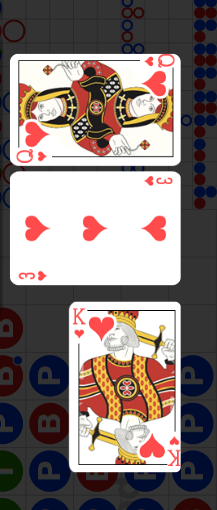3H: (142, 175, 173, 188)
KH: (167, 434, 180, 468)
